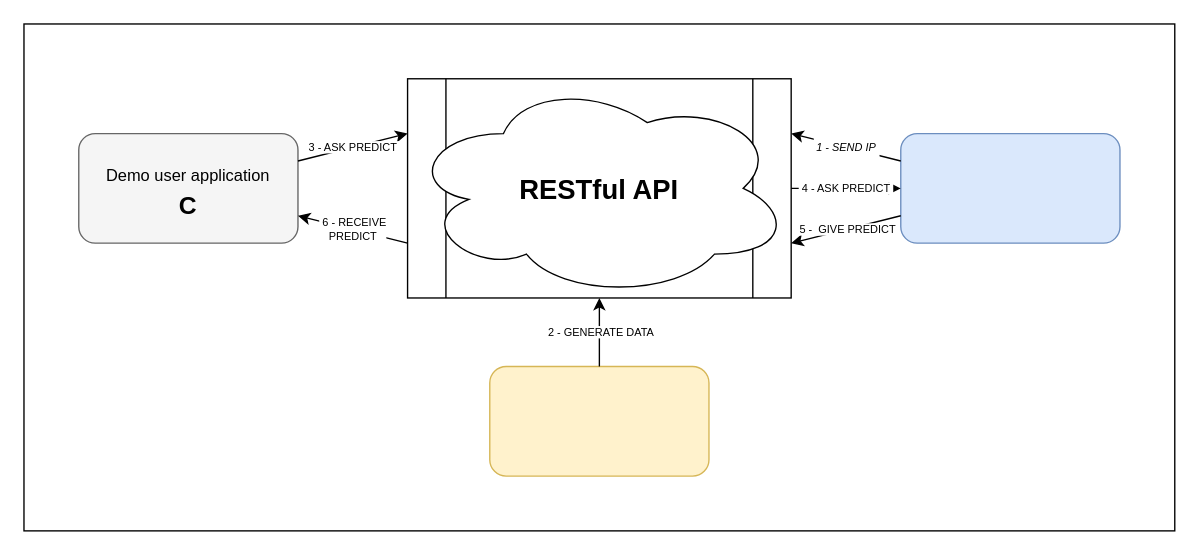
This 1199x555 diagram has some shape labels left out. Here are the shapes that lost their labels. From the top down, the centre of each, then its label:
At [1009,187]: "Data prediction application A".
At [598,420]: "Data generator application B".
